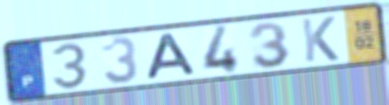3: (246, 19, 293, 71), (46, 41, 89, 91), (98, 35, 139, 87)
4: (200, 24, 241, 75)
A: (144, 31, 200, 82)
K: (299, 15, 342, 64)
